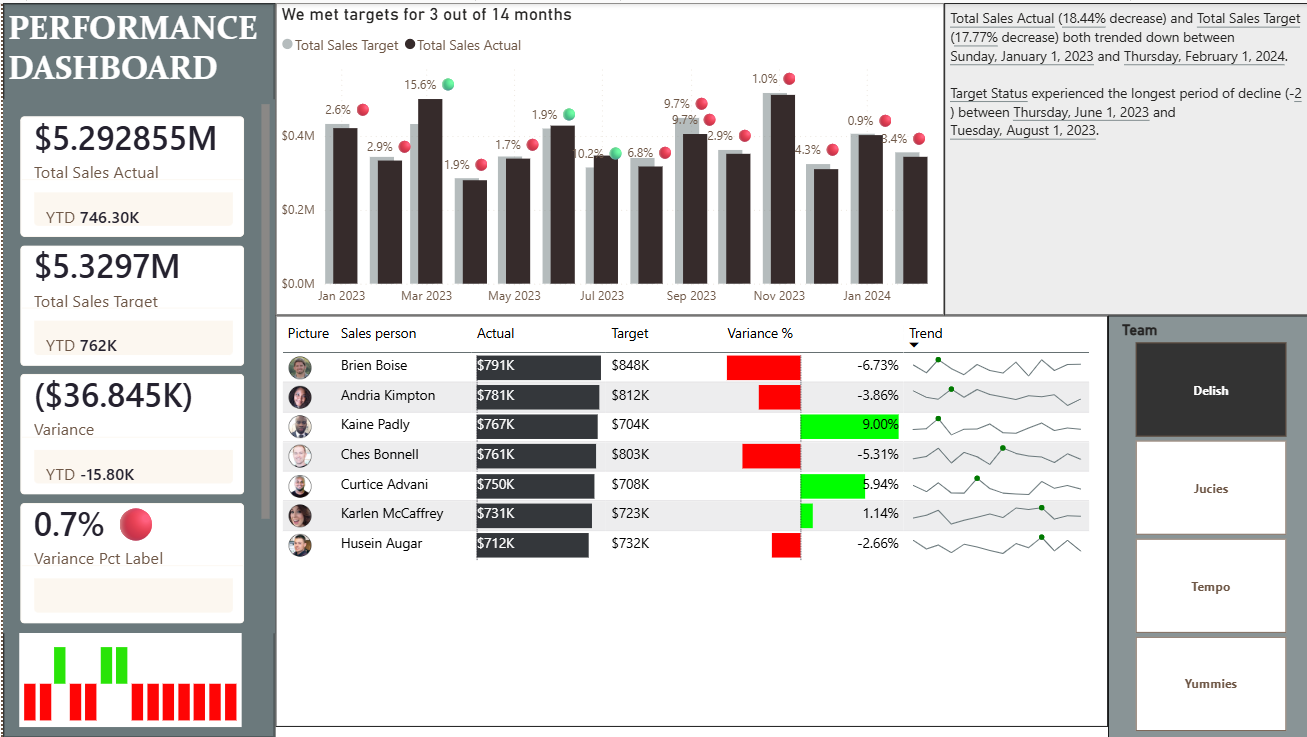

The page's visual inventory and layout, read from the dashboard file:
{"tool":"powerbi","page":{"name":"Page 1","canvas":[1280,720],"ordinal":0},"visuals":[{"type":"shape","box":[0,0,266.6,720.2],"z":0},{"type":"cardVisual","fields":{"Data":["Actual.Total Sales Actual","Targets.Total Sales Target","Actual.Variance","Calculation Table.Variance Pct Label","Calculation Table.Month Target Reached"]},"box":[0,94.2,266.6,522.1],"z":1000},{"type":"clusteredColumnChart","fields":{"Category":["Calendar.Date"],"Y":["Calculation Table.Target Status"]},"box":[15.9,616.3,217.7,91.7],"z":2000},{"type":"clusteredColumnChart","fields":{"Category":["Calendar.Date"],"Y":["Calculation Table.Total Sales Target","Calculation Table.Total Sales Actual"]},"box":[266.6,0,654.2,305.7],"z":3000},{"type":"slicer","fields":{"Values":["dimPeople.Team"]},"box":[1081,305.7,199.3,414.5],"z":4000},{"type":"tableEx","fields":{"Values":["dimPeople.Picture","dimPeople.Sales person","Calculation Table.Total Sales Actual","Calculation Table.Total Sales Target","Calculation Table.Variance %","SparklineData(Calculation Table.Total Sales Actual_[Calendar.Date])"]},"box":[266.6,305.7,814.4,402.3],"z":5000},{"type":"textbox","box":[920.8,0,359.5,305.7],"z":6000},{"type":"textbox","box":[0,0,266.6,94.2],"z":7000}]}

Visuals, with their boxes in screenshot pixels (x1, y1, x2, y2), scaled from the page's 1280x720 canvas onto the 1307x737 screenshot:
shape: 0 0 272 736
cardVisual - Actual.Total Sales Actual x Targets.Total Sales Target: 0 96 272 631
clusteredColumnChart - Calendar.Date x Calculation Table.Target Status: 16 631 239 725
clusteredColumnChart - Calendar.Date x Calculation Table.Total Sales Target: 272 0 940 313
slicer - dimPeople.Team: 1104 313 1306 736
tableEx - dimPeople.Picture x dimPeople.Sales person: 272 313 1104 725
textbox: 940 0 1306 313
textbox: 0 0 272 96
